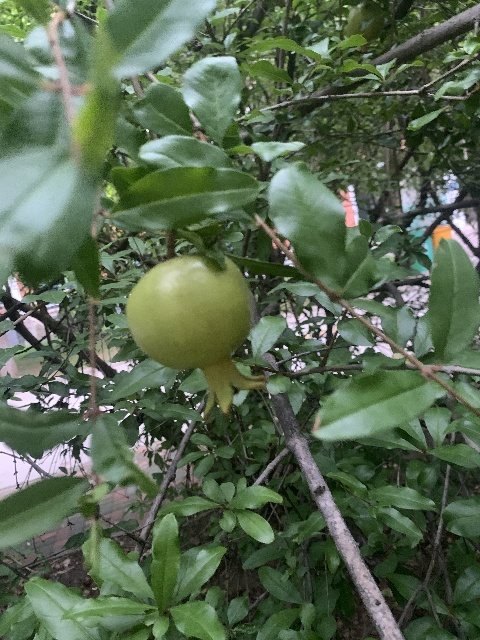mid-growth: (125, 253, 266, 422), (339, 2, 388, 55)
